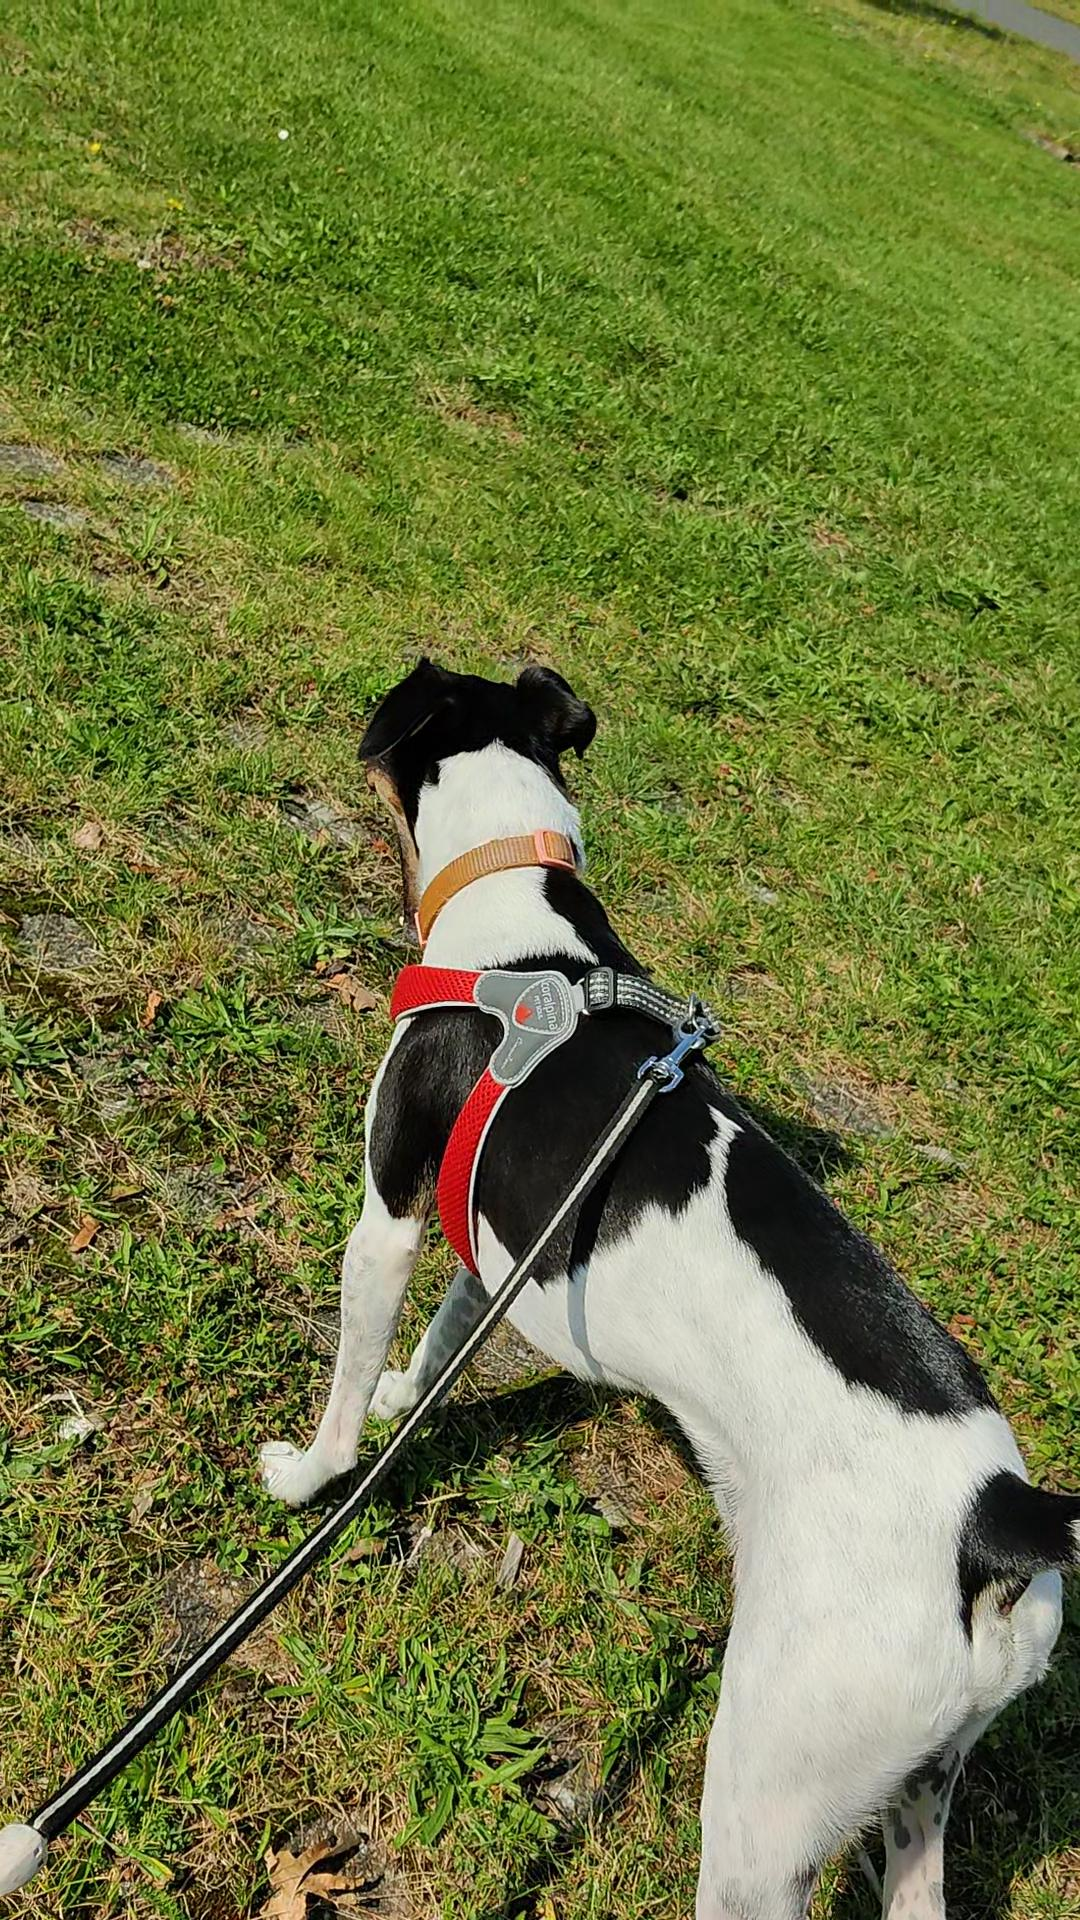Dog: (233, 644, 1079, 1919)
